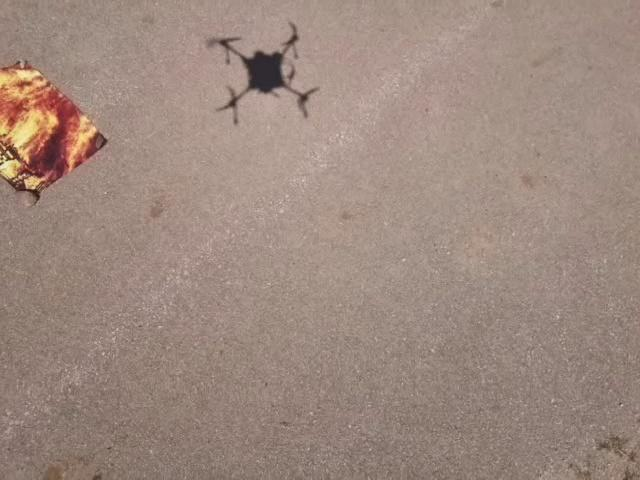fire-poster: (0, 58, 109, 204)
